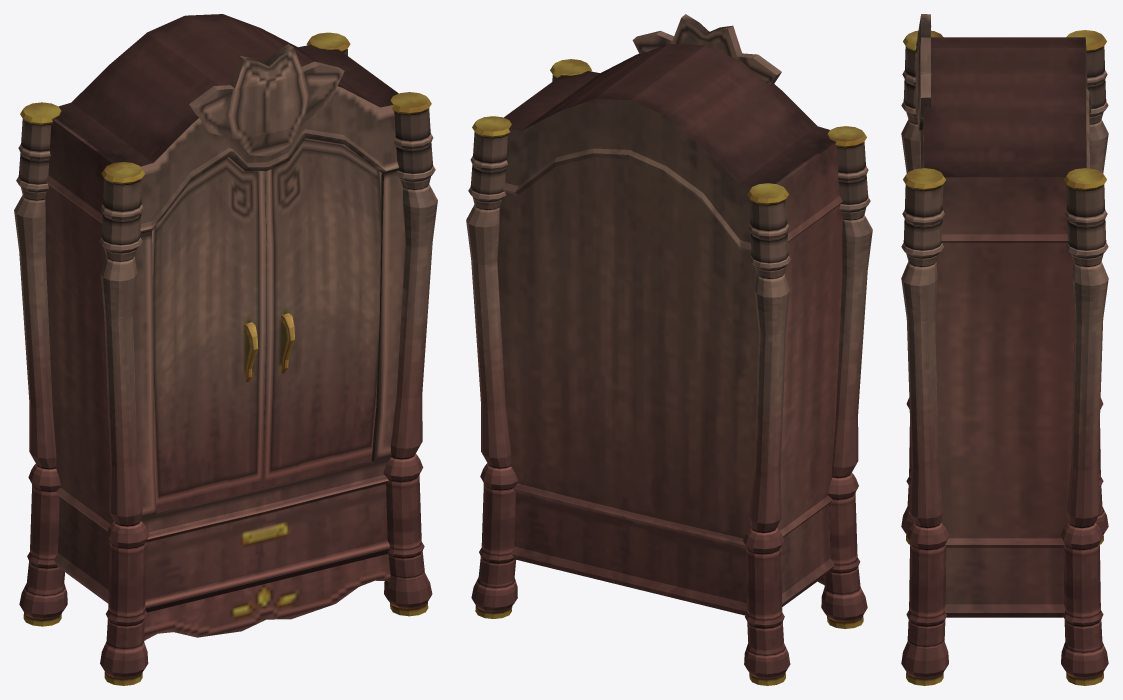
File: Wardrobe_Open_Anim.fbx
3 views of the same model, side by side, from view 1: azimuth 30°, elevation 25°; view 2: azimuth 150°, elevation 25°; view 3: azimuth 270°, elevation 25° (orthographic). The views are drawn at different scales.
Parts seen in each view (by area): view 1: Body, Pillars, Door R, Door L, Flower; view 2: Body, Pillars, Flower; view 3: Body, Pillars, Flower.
Boxes of the visible parts, x1,y1,x2,y2 form: Body: (45,14,405,640); Pillars: (14,32,437,685); Door R: (263,138,381,487); Door L: (152,157,266,512); Flower: (189,44,344,156); Body: (497,43,842,615); Pillars: (466,59,872,685); Flower: (632,14,781,85); Body: (920,37,1091,617); Pillars: (901,30,1108,685); Flower: (915,14,931,130).
Size of the model in its own units: 158 by 86.19 by 267.
